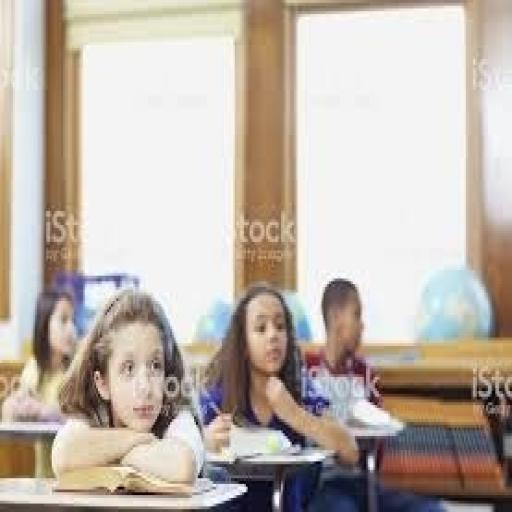sitting: (196, 282, 360, 510), (298, 276, 449, 509), (48, 284, 205, 492), (0, 284, 81, 424)
